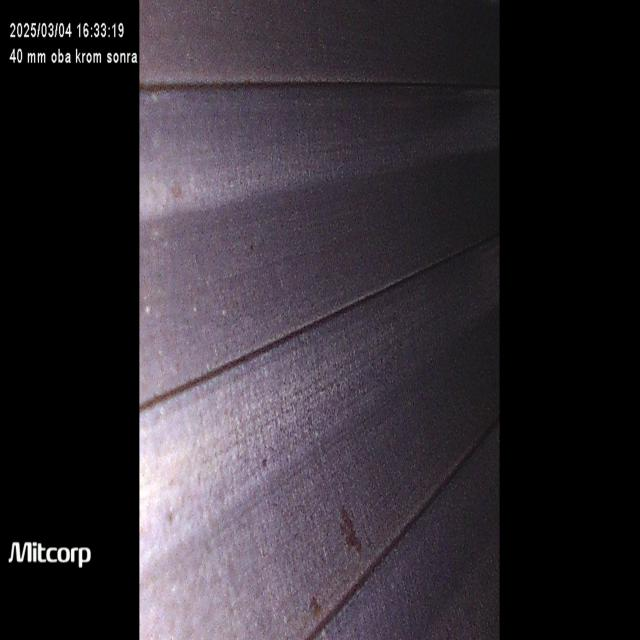hata_4.2: (330, 500, 379, 585), (301, 582, 336, 640)
